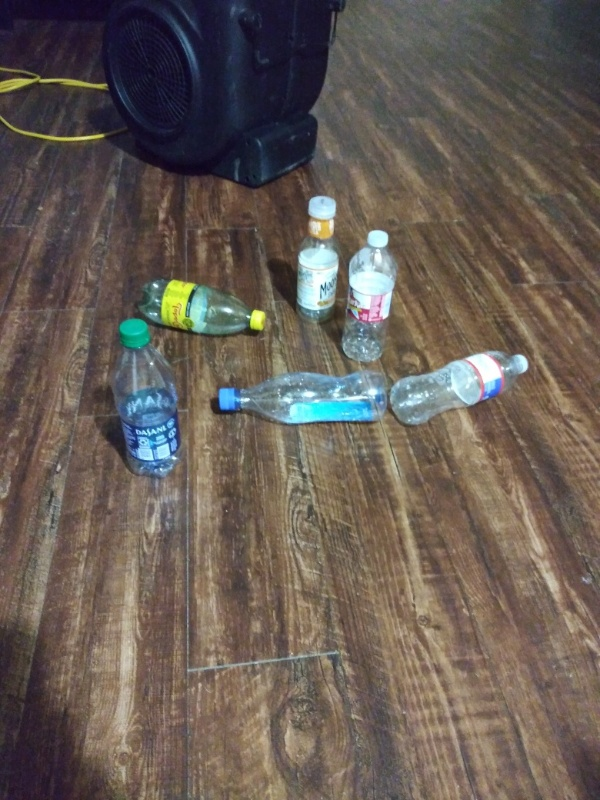bottle: (103, 315, 191, 481), (388, 346, 535, 429), (213, 368, 388, 429), (137, 273, 273, 342), (334, 228, 398, 366), (290, 192, 344, 326)
